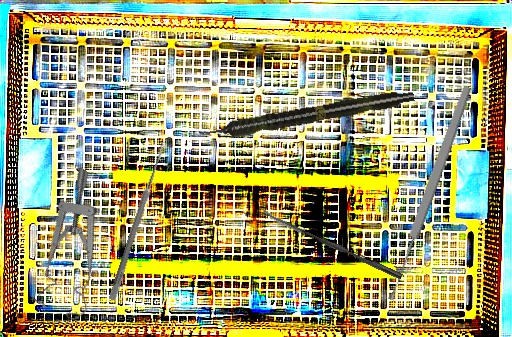Handpiece: (197, 86, 416, 144)
Speculum: (5, 166, 151, 328)
Surgical Spoon: (384, 85, 474, 302), (258, 207, 404, 280), (108, 140, 168, 302)
